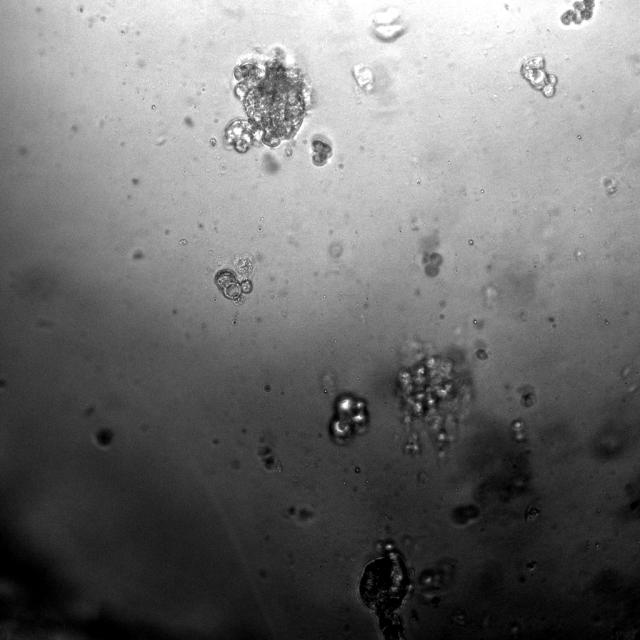organoid: (224, 48, 310, 153), (395, 349, 472, 457), (358, 540, 412, 639), (214, 253, 255, 304), (329, 392, 369, 443), (417, 558, 456, 601), (520, 57, 557, 97), (372, 7, 404, 41), (561, 0, 596, 26), (450, 503, 480, 527), (256, 445, 280, 472), (352, 64, 374, 92), (312, 138, 332, 166), (422, 252, 442, 277), (284, 506, 314, 522), (518, 385, 537, 408), (93, 427, 113, 448), (510, 419, 526, 442), (525, 504, 541, 521), (476, 349, 488, 359), (263, 384, 271, 393)
